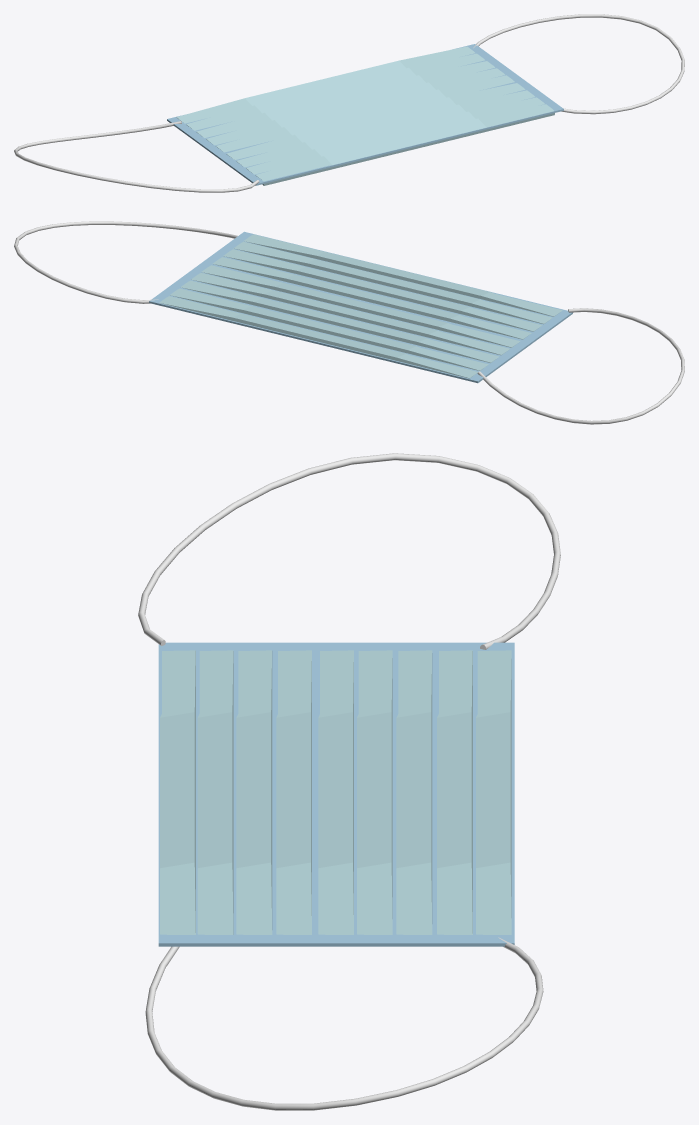
Rendered from mask.fbx.
3 views of the same model, one above another, from view 1: azimuth 30°, elevation 25°; view 2: azimuth 150°, elevation 25°; view 3: azimuth 270°, elevation 25° (orthographic). The views are drawn at different scales.
Visible parts, largest first — view 1: Cube.001, Cube.005, Cube, Cube.008, Cube.004, Cube.007, Cube.009, Cube.003, Cube.006, Cube.002, BezierCurve, BezierCurve.001; view 2: Cube, Cube.003, Cube.001, Cube.005, Cube.002, Cube.004, Cube.007, Cube.009, Cube.006, Cube.008, BezierCurve, BezierCurve.001; view 3: Cube, Cube.007, Cube.002, Cube.003, Cube.006, Cube.009, Cube.001, Cube.008, Cube.004, Cube.005, BezierCurve, BezierCurve.001.
Part boxes in pixels (bbox=[...]): Cube.001: bbox=[255, 104, 554, 185]; Cube.005: bbox=[216, 75, 514, 152]; Cube: bbox=[167, 44, 563, 185]; Cube.008: bbox=[186, 53, 484, 130]; Cube.004: bbox=[226, 83, 525, 159]; Cube.007: bbox=[196, 61, 494, 137]; Cube.009: bbox=[176, 46, 475, 123]; Cube.003: bbox=[236, 90, 534, 167]; Cube.006: bbox=[206, 68, 504, 145]; Cube.002: bbox=[246, 97, 544, 174]; BezierCurve: bbox=[14, 121, 259, 192]; BezierCurve.001: bbox=[473, 14, 684, 114]; Cube: bbox=[149, 231, 572, 383]; Cube.003: bbox=[223, 249, 542, 331]; Cube.001: bbox=[243, 234, 562, 316]; Cube.005: bbox=[201, 265, 520, 347]; Cube.002: bbox=[233, 241, 552, 324]; Cube.004: bbox=[212, 257, 531, 339]; Cube.007: bbox=[180, 280, 499, 362]; Cube.009: bbox=[159, 296, 477, 378]; Cube.006: bbox=[191, 273, 509, 355]; Cube.008: bbox=[170, 288, 488, 370]; BezierCurve: bbox=[477, 308, 684, 424]; BezierCurve.001: bbox=[14, 221, 237, 303]; Cube: bbox=[158, 642, 514, 946]; Cube.007: bbox=[396, 650, 432, 934]; Cube.002: bbox=[197, 650, 233, 934]; Cube.003: bbox=[236, 650, 272, 934]; Cube.006: bbox=[357, 650, 392, 934]; Cube.009: bbox=[476, 650, 511, 934]; Cube.001: bbox=[160, 650, 195, 934]; Cube.008: bbox=[437, 650, 472, 934]; Cube.004: bbox=[276, 650, 311, 934]; Cube.005: bbox=[318, 650, 353, 934]; BezierCurve: bbox=[138, 453, 560, 649]; BezierCurve.001: bbox=[145, 937, 543, 1110].
Size of the model in its own units: 814 by 42.94 by 237.
